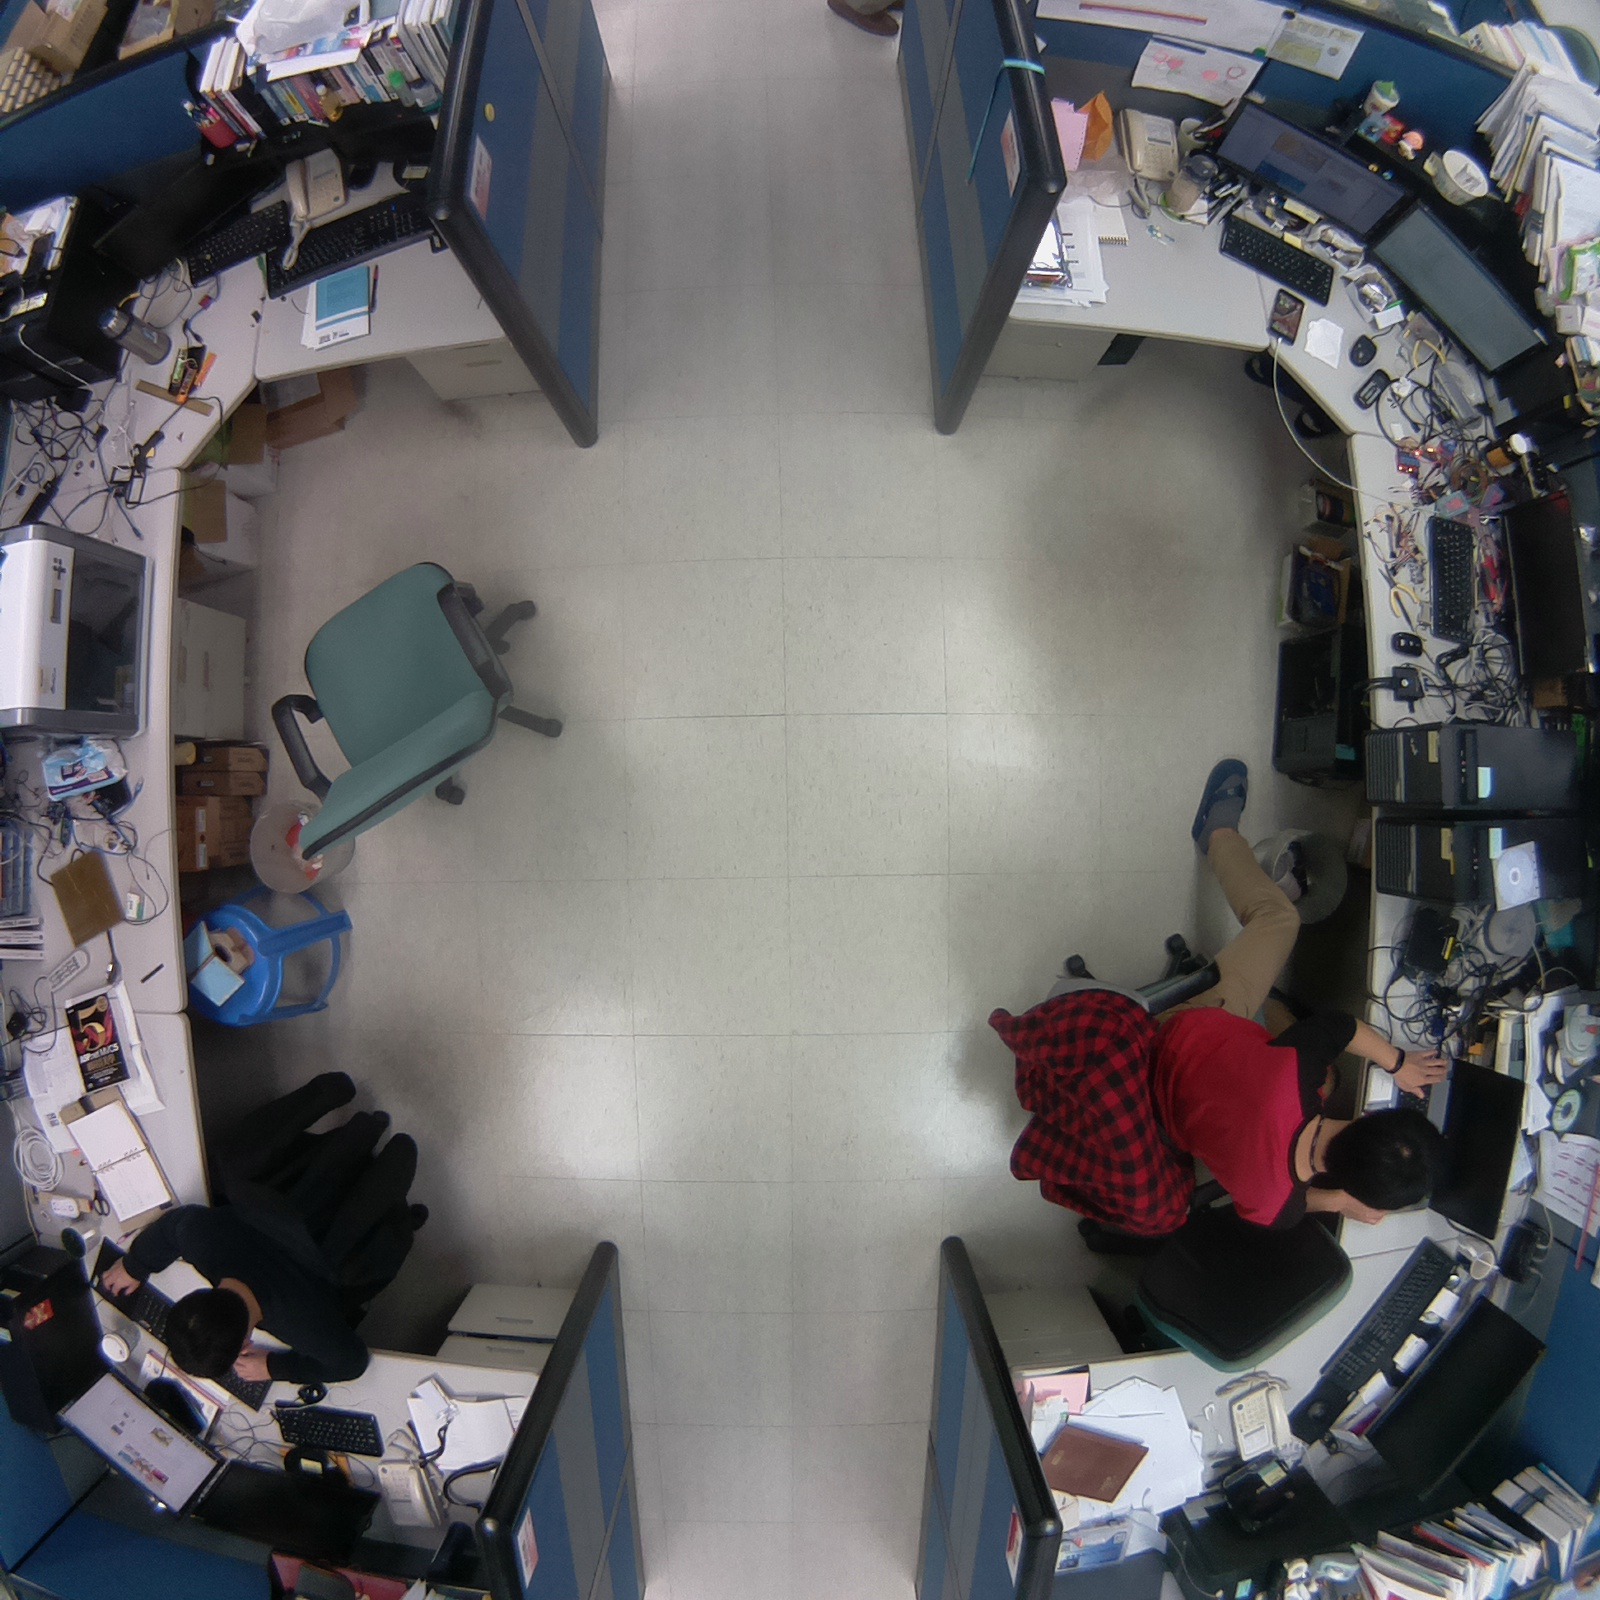chair: (260, 524, 578, 888), (1076, 1191, 1370, 1399)
head: (1321, 1097, 1451, 1227), (159, 1278, 257, 1385)
sitting: (947, 824, 1468, 1250), (98, 1050, 455, 1395)
